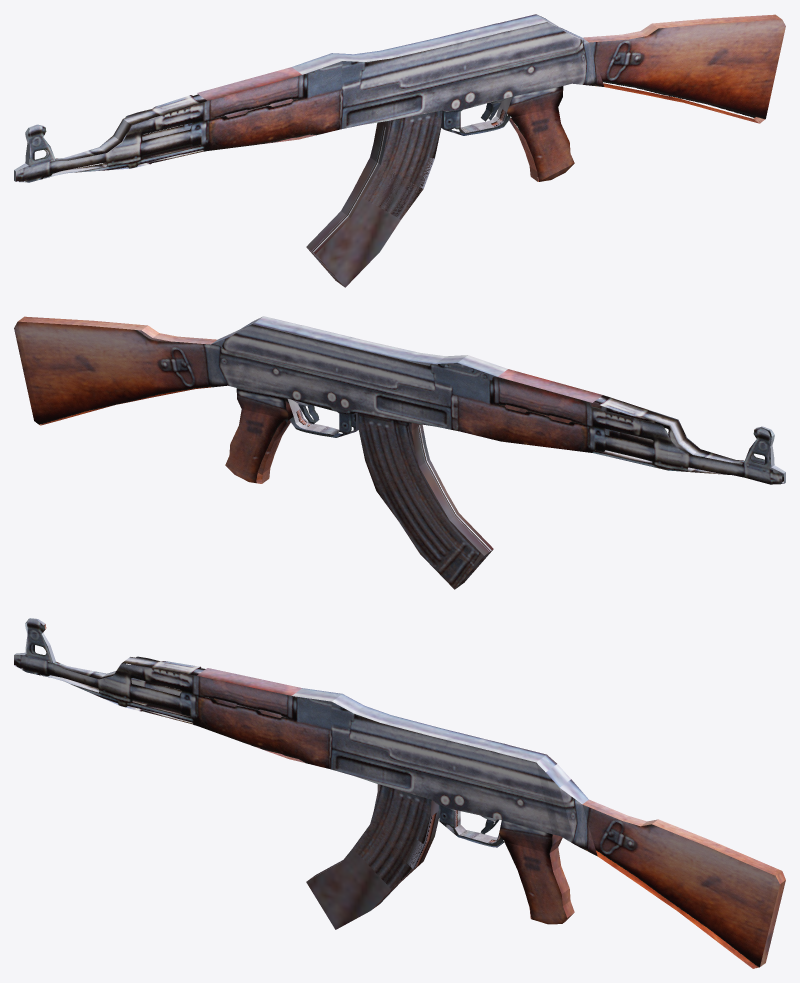
3 renders of one model, top to bottom at view 1: azimuth 30°, elevation 25°; view 2: azimuth 150°, elevation 25°; view 3: azimuth 330°, elevation 25°, orthographic.
Visible parts, largest first — view 1: Cube; view 2: Cube; view 3: Cube.
Boxes of the visible parts, x1,y1,x2,y2 form: Cube: (14,14,785,287); Cube: (14,316,785,589); Cube: (14,618,785,968).
Size of the model in its own units: 656 by 190 by 17.31.
Materials: 1 (1 with a texture image).
